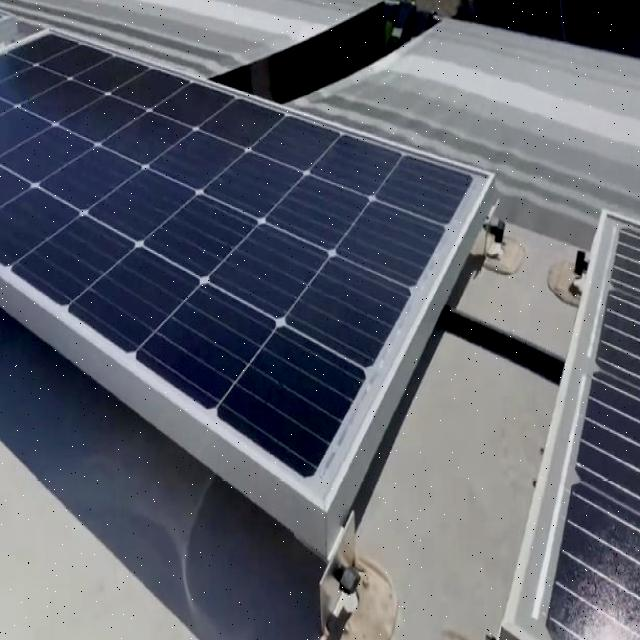Normal Solar Panel: (0, 29, 492, 512)
